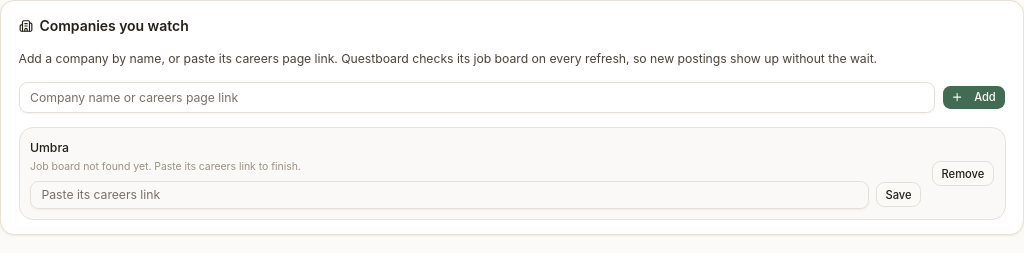
Test: CompaniesTab › completes an unknown entry from its pasted careers link
Expected: the text "Job board not found yet. Paste its careers link to finish." is shown, 30,160 -> 301,172
Type "https://jobs.lever.co/umbra-hq" into the field named "Careers link for Umbra" at [449, 194], box 30,180 -> 869,208
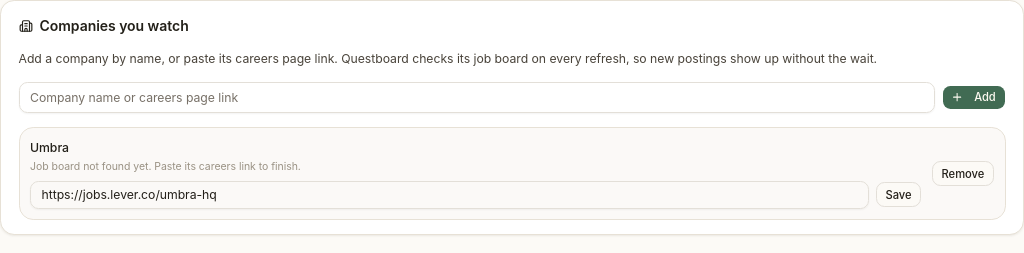
Click the button with aria-label "Save link for Umbra" at [899, 195], box 876,182 -> 921,207
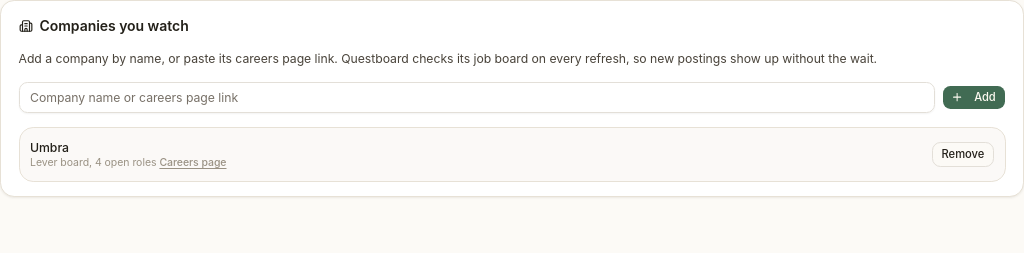
Result: the text "Lever board, 4 open roles Careers page" is shown at 30,156 -> 226,169
Result: the text "Job board not found yet" is gone
